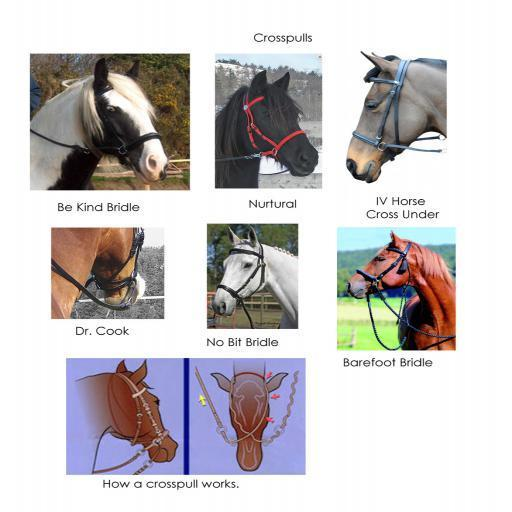horse: (30, 57, 170, 191), (344, 50, 448, 184), (346, 228, 458, 352), (212, 68, 320, 189), (72, 358, 180, 474), (210, 358, 290, 472), (212, 225, 298, 330), (48, 225, 145, 318)
